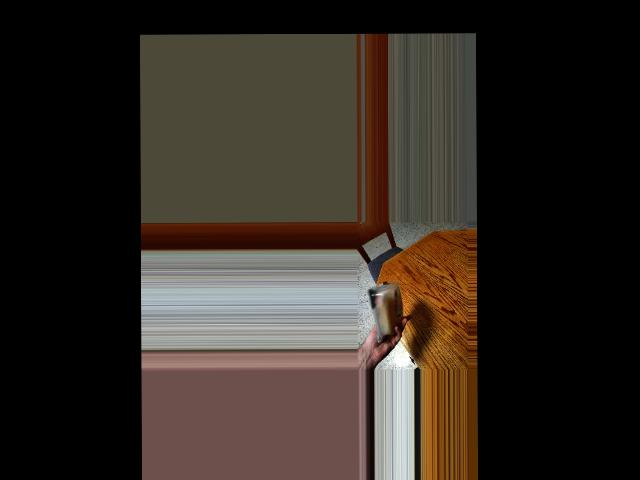cheese: (372, 285, 402, 332)
